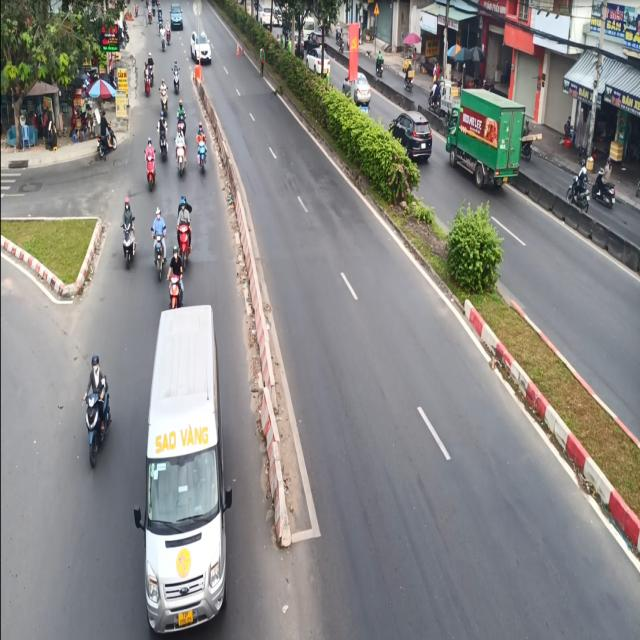car: (140, 308, 238, 632)
motor: (83, 344, 112, 473), (117, 186, 136, 263), (174, 195, 194, 264), (165, 248, 182, 309), (150, 204, 164, 278), (140, 132, 156, 185), (195, 117, 207, 180)
